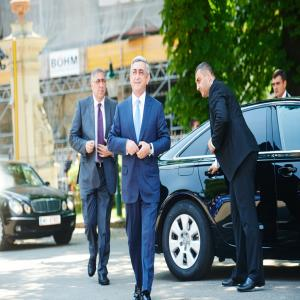Vehicle-registration-plate: (40, 214, 62, 227)
